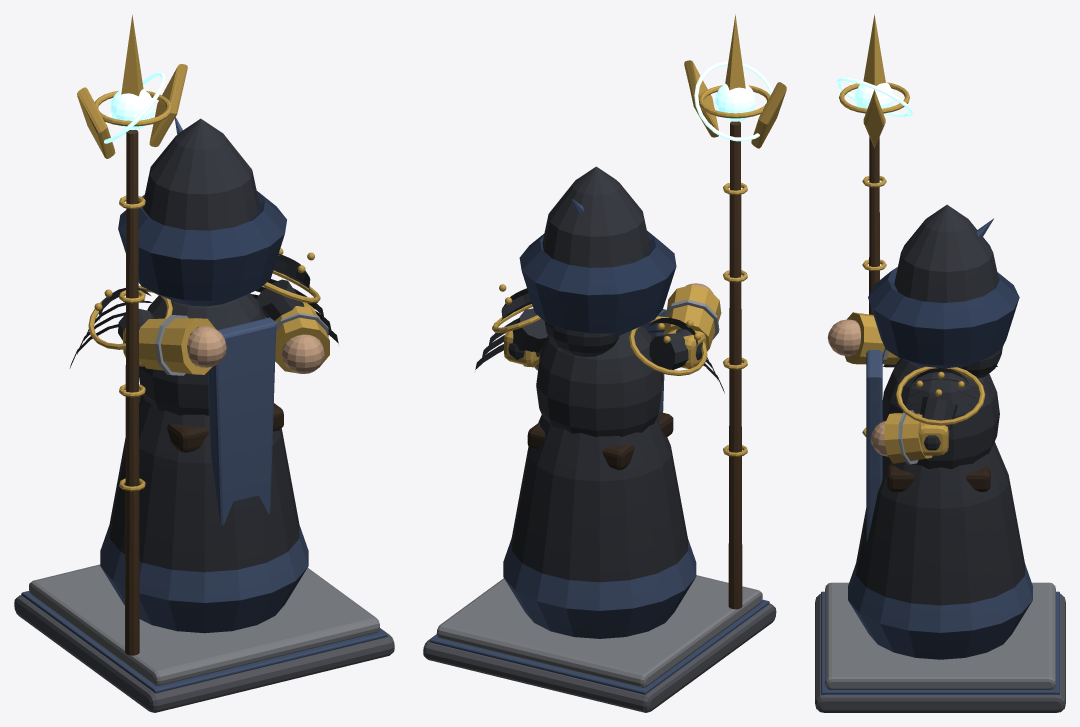
The model's file is mage.glb.
3 renders of one model, left to right at view 1: azimuth 30°, elevation 25°; view 2: azimuth 150°, elevation 25°; view 3: azimuth 270°, elevation 25°, orthographic. The views are drawn at different scales.
Visible parts, largest first — view 1: cloth, owner, lstone, ownerDark, brass (×2), stone, dwood, skin, dleather, glow, steel; view 2: cloth, lstone, owner, ownerDark, brass (×2), stone, dwood, glow (×2), dleather; view 3: cloth, owner, lstone, ownerDark, brass (×2), stone, dwood, skin, glow (×2), dleather.
Part boxes in pixels (bbox=[...]): cloth: bbox=[69, 118, 338, 572]; owner: bbox=[21, 117, 387, 693]; lstone: bbox=[29, 564, 379, 685]; ownerDark: bbox=[118, 191, 286, 306]; brass (×2): bbox=[77, 15, 329, 491]; stone: bbox=[14, 595, 394, 712]; dwood: bbox=[125, 130, 139, 655]; skin: bbox=[187, 326, 324, 373]; dleather: bbox=[139, 390, 283, 452]; glow: bbox=[110, 88, 154, 129]; steel: bbox=[155, 313, 328, 375]; cloth: bbox=[475, 166, 724, 582]; lstone: bbox=[436, 575, 762, 687]; owner: bbox=[429, 199, 769, 694]; ownerDark: bbox=[519, 230, 676, 335]; brass (×2): bbox=[492, 14, 786, 457]; stone: bbox=[423, 603, 776, 712]; dwood: bbox=[728, 121, 742, 609]; glow (×2): bbox=[694, 61, 772, 141]; dleather: bbox=[527, 411, 673, 470]; cloth: bbox=[852, 204, 1024, 605]; owner: bbox=[821, 218, 1059, 694]; lstone: bbox=[825, 582, 1055, 689]; ownerDark: bbox=[868, 267, 1019, 368]; brass (×2): bbox=[839, 14, 985, 463]; stone: bbox=[815, 593, 1065, 712]; dwood: bbox=[869, 137, 879, 314]; skin: bbox=[827, 319, 887, 456]; glow (×2): bbox=[836, 77, 912, 117]; dleather: bbox=[887, 465, 990, 491].
Size of the model in its own units: 0.9009 by 2.01 by 0.7606.
